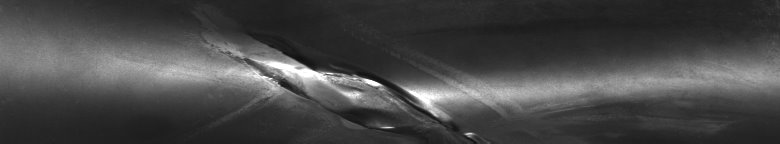ke: (222, 36, 495, 136)
